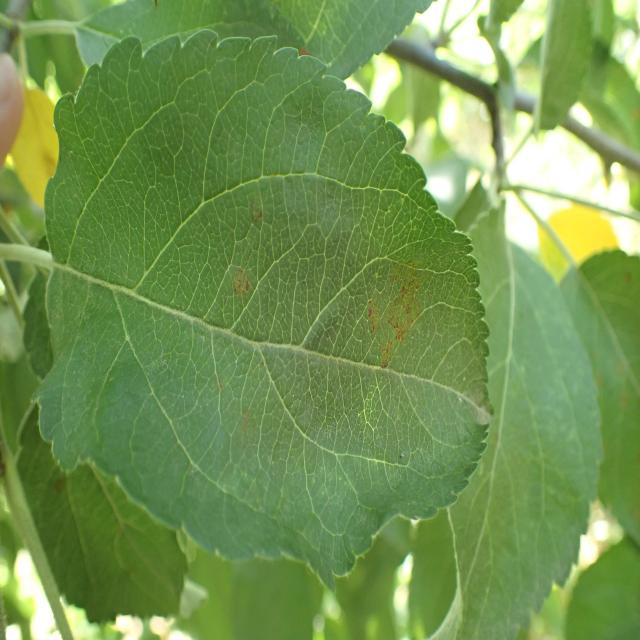scab: (205, 180, 465, 501)
